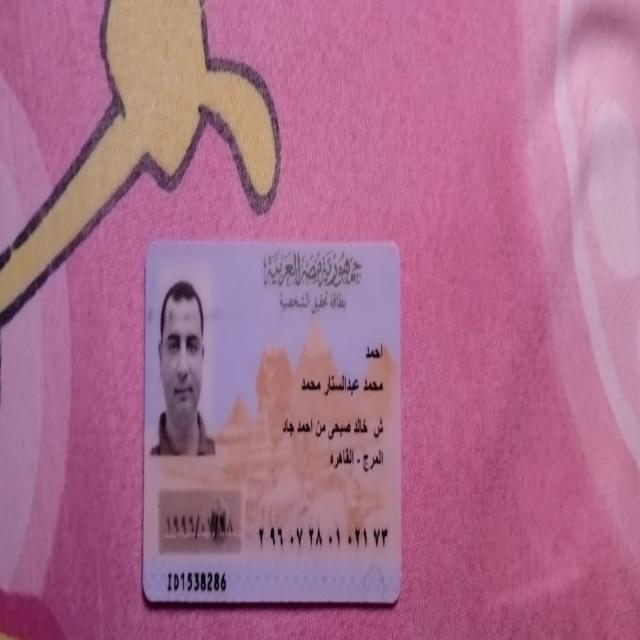id_card: (131, 230, 408, 618)
